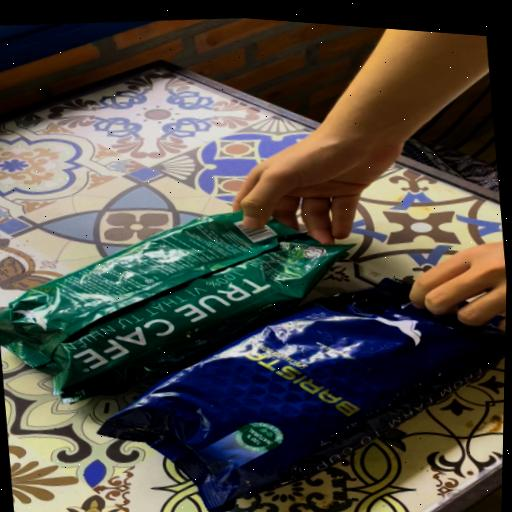cafe_hat: (99, 278, 505, 512)
cafe_xay: (0, 212, 351, 401)
